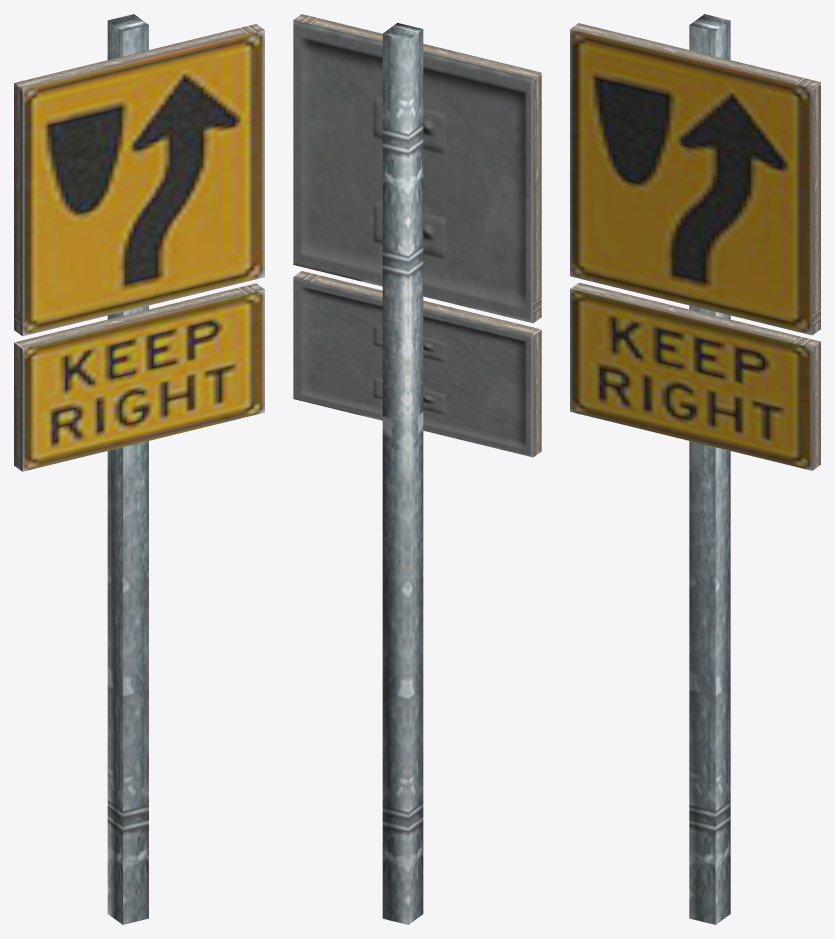
The model's file is Model_StreetSign_15.fbx.
The picture shows the model from 3 angles, left to right: view 1: azimuth 30°, elevation 25°; view 2: azimuth 150°, elevation 25°; view 3: azimuth 330°, elevation 25°; orthographic projection.
Parts seen in each view (by area): view 1: StreetSign_15; view 2: StreetSign_15; view 3: StreetSign_15.
Boxes of the visible parts, <box> form: StreetSign_15: <box>14,14,264,924</box>; StreetSign_15: <box>293,14,541,924</box>; StreetSign_15: <box>570,14,820,924</box>.
Size of the model in its own units: 59.59 by 210 by 10.5.
